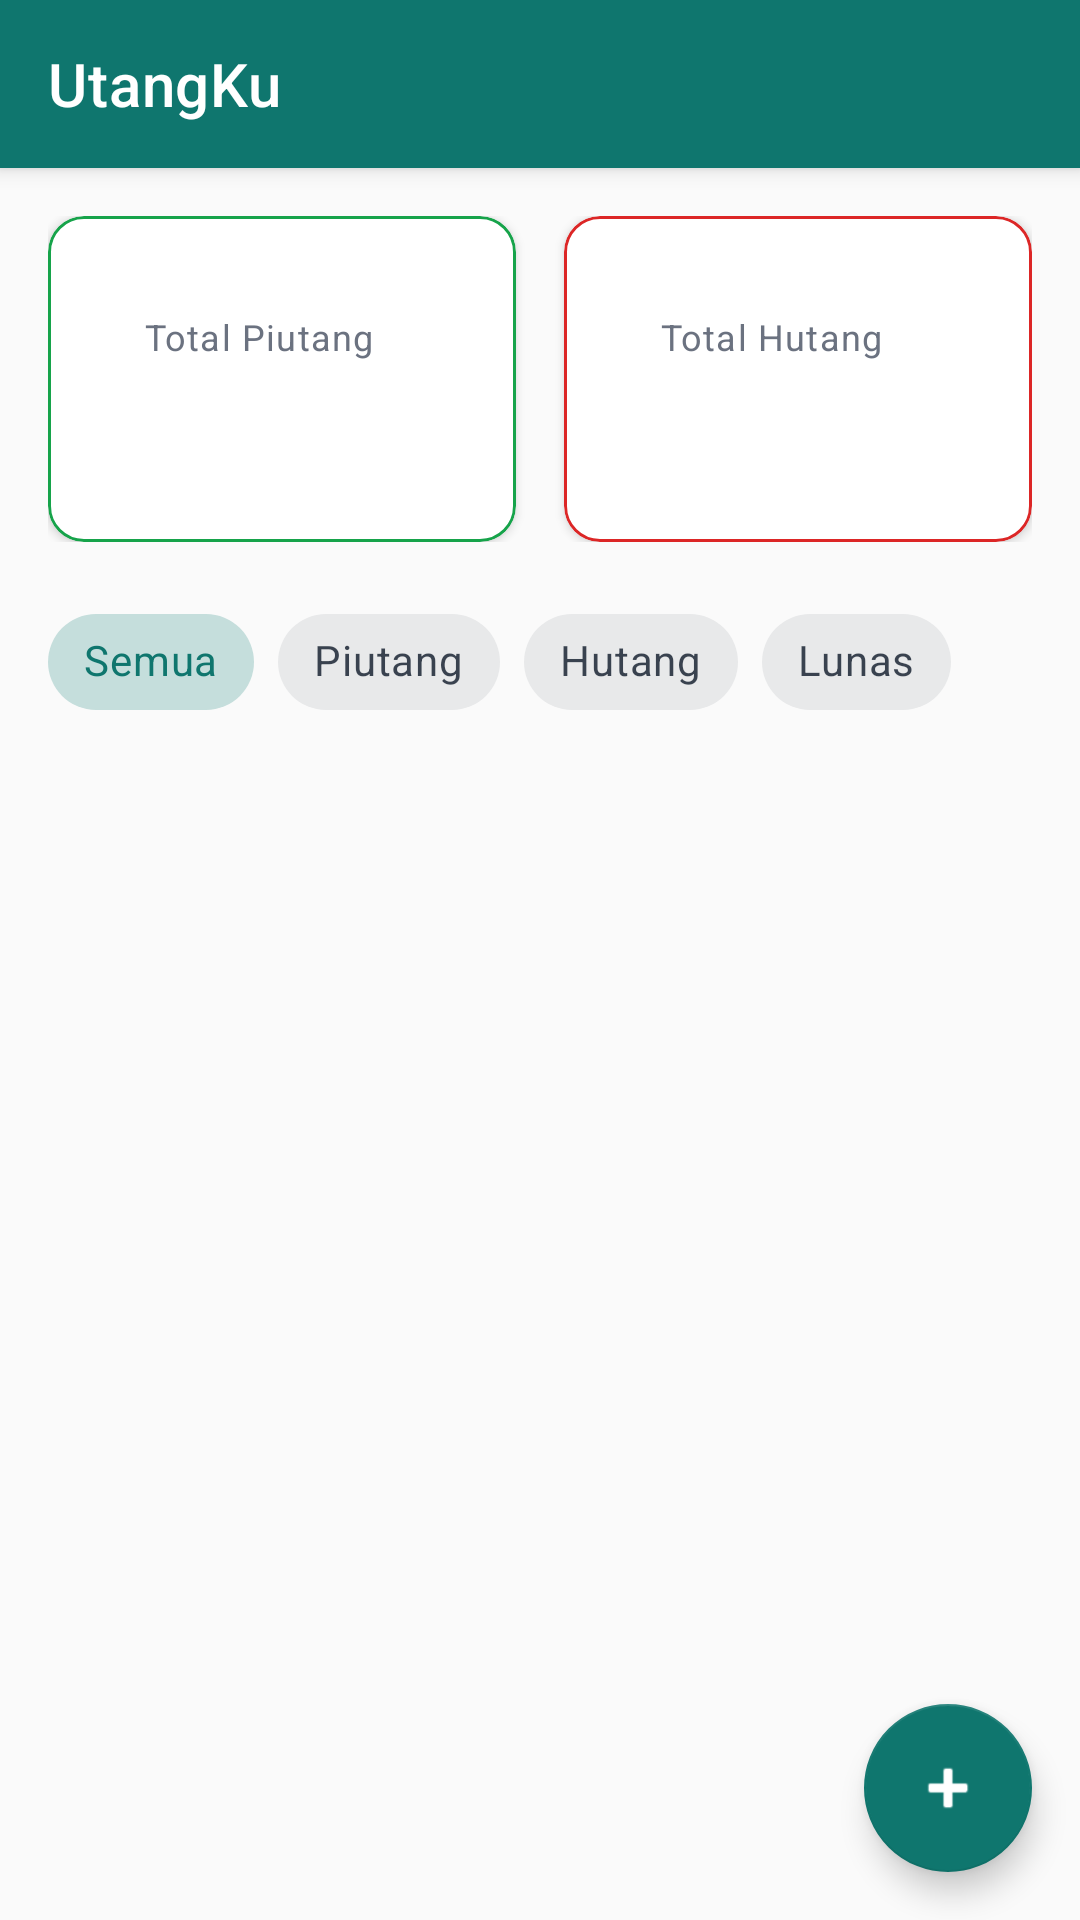

Icons on this 1080px x 1920px Android screen, each with its box as (x1, y1, x2, y2):
Tambah Catatan: (864, 1704, 1032, 1872)
